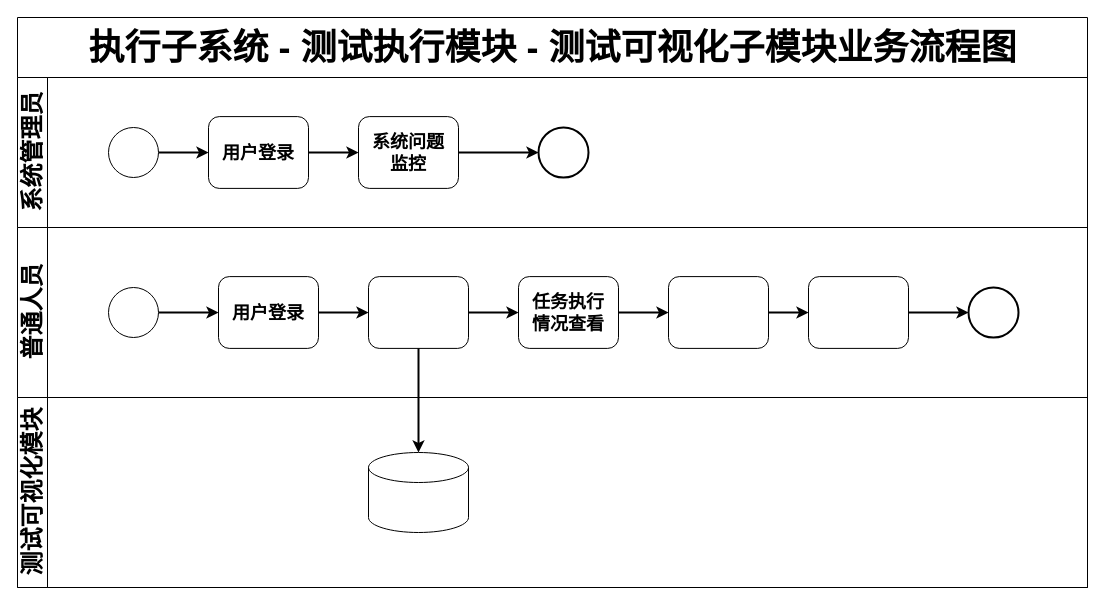
Some shapes in this 1105 by 605 pixel diagram are drawn without their labels. The centre of each missing label's shape, as x and y in pixels:
"测试 任务 库" goes at point 418,492.
"测试任务 可视化配置" goes at point 418,312.
"测试结果 查看" goes at point 858,312.
"资源使用 情况查看" goes at point 718,312.
